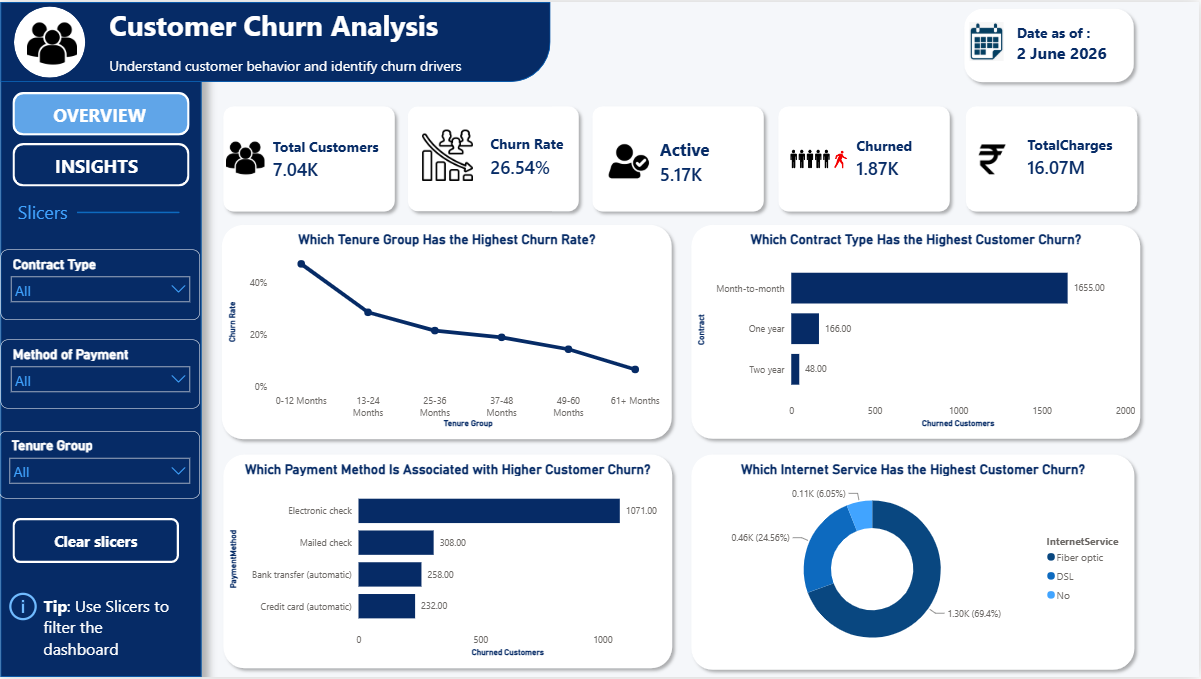

What the dashboard file says about the page in this screenshot:
{"tool":"powerbi","page":{"name":"dashboard","canvas":[1600,900],"ordinal":0},"visuals":[{"type":"group","id":"g1","title":"side bar","box":[0,0,736,900],"z":0,"group":"g23"},{"type":"group","id":"g2","title":"Group 3","box":[0,0,736,900],"z":0,"group":"g1"},{"type":"group","id":"g3","title":"Group 1","box":[2,0,734,900],"z":0,"group":"g2"},{"type":"shape","box":[2,0,268,900],"z":0,"group":"g3"},{"type":"group","id":"g4","title":"date","box":[1278,0,244,116],"z":0,"group":"g17"},{"type":"shape","box":[1278,0,244,116],"z":0,"group":"g4"},{"type":"group","id":"g5","title":"Group 6","box":[290,130,246.7,158.3],"z":0,"group":"g18"},{"type":"shape","box":[290,130,246.7,158.3],"z":0,"group":"g5"},{"type":"group","id":"g6","title":"Group 8","box":[536,130,260,158],"z":0,"group":"g20"},{"type":"shape","box":[536,130,246,158],"z":0,"group":"g6"},{"type":"group","id":"g7","title":"Group 7","box":[781.7,130,246.7,158.3],"z":0,"group":"g19"},{"type":"shape","box":[781.7,130,246.7,158.3],"z":0,"group":"g7"},{"type":"group","id":"g8","title":"Group 5","box":[1030,130,246.7,158.3],"z":0,"group":"g22"},{"type":"shape","box":[1030,130,246.7,158.3],"z":0,"group":"g8"},{"type":"group","id":"g9","title":"Group 5","box":[1280,130,246.7,158.3],"z":0,"group":"g21"},{"type":"shape","box":[1280,130,246.7,158.3],"z":0,"group":"g9"},{"type":"textbox","box":[20,258,220,46],"z":0,"group":"g15"},{"type":"group","id":"g10","title":"tenure grp","box":[288,288,618,304],"z":0},{"type":"shape","box":[288,288,618,304],"z":0,"group":"g10"},{"type":"shape","box":[914,288,616.7,303.4],"z":0,"group":"g12"},{"type":"shape","box":[290,594,616.7,303.4],"z":0,"group":"g16"},{"type":"shape","box":[914,594,608.8,305.4],"z":0,"group":"g14"},{"type":"shape","box":[2.5,0,733.3,106.7],"z":1000,"group":"g3"},{"type":"textbox","box":[142.1,0,485.6,65.9],"z":1000,"group":"g2"},{"type":"shape","box":[20.3,5,95,95],"z":1000,"group":"g1"},{"type":"image","box":[1293.3,20,45,65],"z":1000,"group":"g17"},{"type":"textbox","box":[1352,22,156,64],"z":1000,"group":"g4"},{"type":"group","id":"g11","title":"Group 4","box":[16,120,238,58],"z":1000,"group":"g23"},{"type":"cardVisual","fields":{"Data":["Sum(cleaned_telco_churn.TotalCharges)"]},"box":[1341.7,141.7,180,128.3],"z":1000,"group":"g9"},{"type":"cardVisual","fields":{"Data":["cleaned_telco_churn.Churn Rate"]},"box":[626,146.7,170,118.3],"z":1000,"group":"g6"},{"type":"cardVisual","fields":{"Data":["cleaned_telco_churn.Churned Customers"]},"box":[1113.3,146.7,155,123.3],"z":1000,"group":"g8"},{"type":"cardVisual","fields":{"Data":["cleaned_telco_churn.Total Customers"]},"box":[336.7,148.3,200,121.7],"z":1000,"group":"g5"},{"type":"cardVisual","fields":{"Data":["cleaned_telco_churn.Active Customers"]},"box":[852.3,153.3,158.3,116.7],"z":1000,"group":"g7"},{"type":"image","box":[1051.7,161.7,81.7,96.7],"z":1000,"group":"g22"},{"type":"image","box":[548.3,170,100,68.3],"z":1000,"group":"g20"},{"type":"image","box":[290,181.7,76.7,51.7],"z":1000,"group":"g18"},{"type":"image","box":[1280,181.7,85,56.7],"z":1000,"group":"g21"},{"type":"image","box":[811.7,183.3,55,56.7],"z":1000,"group":"g19"},{"type":"shape","box":[103.3,274.4,136.7,13.1],"z":1000,"group":"g15"},{"type":"group","id":"g12","title":"contract type","box":[914,288,618,304],"z":1000},{"type":"lineChart","title":"Which Tenure Group Has the Highest Churn Rate?","fields":{"Category":["cleaned_telco_churn.Tenure Group"],"Y":["cleaned_telco_churn.Churn Rate"]},"box":[299.7,306.8,594.6,266.4],"z":1000,"group":"g10"},{"type":"clusteredBarChart","title":"Which Contract Type Has the Highest Customer Churn?","fields":{"Category":["cleaned_telco_churn.Contract"],"Y":["cleaned_telco_churn.Churned Customers"]},"box":[925.7,306.8,593.3,265.8],"z":1000,"group":"g12"},{"type":"clusteredBarChart","title":"Which Payment Method Is Associated with Higher Customer Churn?","fields":{"Y":["cleaned_telco_churn.Churned Customers"],"Category":["cleaned_telco_churn.PaymentMethod"]},"box":[301.7,612.8,593.3,265.8],"z":1000,"group":"g16"},{"type":"donutChart","title":"Which Internet Service Has the Highest Customer Churn?","fields":{"Y":["cleaned_telco_churn.Churned Customers"],"Category":["cleaned_telco_churn.InternetService"]},"box":[925.5,612.9,585.8,267.6],"z":1000,"group":"g14"},{"type":"image","box":[27,21.7,85,66.7],"z":2000,"group":"g1"},{"type":"textbox","box":[142.1,65.9,485.6,40.1],"z":2000,"group":"g2"},{"type":"group","id":"g13","title":"Group 4","box":[18,188,236,58],"z":2000,"group":"g23"},{"type":"group","id":"g14","title":"internet service","box":[914,594,608,306],"z":2000},{"type":"group","id":"g15","title":"Group 2","box":[20,258,220,48],"z":3000,"group":"g2"},{"type":"group","id":"g16","title":"payment method","box":[290,594,618,304],"z":3000},{"type":"slicer","fields":{"Values":["cleaned_telco_churn.Contract"]},"box":[2,330,266,94],"z":4000,"group":"g2"},{"type":"group","id":"g17","title":"date","box":[1278,0,244,116],"z":5000},{"type":"slicer","fields":{"Values":["cleaned_telco_churn.PaymentMethod"]},"box":[2,450,266,92],"z":5000,"group":"g2"},{"type":"group","id":"g18","title":"total_cust_card","box":[290,130,246.7,158.3],"z":6000},{"type":"slicer","fields":{"Values":["cleaned_telco_churn.Tenure Group"]},"box":[0,572,268,90],"z":6000,"group":"g2"},{"type":"group","id":"g19","title":"active card","box":[781.7,130,246.7,158.3],"z":7000},{"type":"actionButton","box":[18,688,222,60],"z":7000,"group":"g2"},{"type":"group","id":"g20","title":"churn rate","box":[536,130,260,158],"z":8000},{"type":"textbox","box":[54,784,186,96],"z":8000,"group":"g2"},{"type":"group","id":"g21","title":"total charge","box":[1280,130,246.7,158.3],"z":9000},{"type":"actionButton","box":[8,782,50,48],"z":9000,"group":"g2"},{"type":"group","id":"g22","title":"churned","box":[1030,130,246.7,158.3],"z":10000},{"type":"shape","box":[18,120,236,58],"z":11000,"group":"g11"},{"type":"shape","box":[18,188,236,58],"z":11000,"group":"g13"},{"type":"textbox","box":[16,128,236,46],"z":12000,"group":"g11"},{"type":"textbox","box":[52,196,156,42],"z":12000,"group":"g13"},{"type":"group","id":"g23","title":"Group 9","box":[0,0,736,900],"z":12003}]}

Visuals, with their boxes in screenshot pixels (x1, y1, x2, y2), scaled from the page's 1600x900 canvas onto the 1201x679 screenshot:
"side bar" group: select_region(0, 0, 552, 678)
"Group 3" group: select_region(0, 0, 552, 678)
"Group 1" group: select_region(2, 0, 552, 678)
shape: select_region(2, 0, 203, 678)
"date" group: select_region(959, 0, 1142, 88)
shape: select_region(959, 0, 1142, 88)
"Group 6" group: select_region(218, 98, 403, 218)
shape: select_region(218, 98, 403, 218)
"Group 8" group: select_region(402, 98, 597, 217)
shape: select_region(402, 98, 587, 217)
"Group 7" group: select_region(587, 98, 772, 218)
shape: select_region(587, 98, 772, 218)
"Group 5" group: select_region(773, 98, 958, 218)
shape: select_region(773, 98, 958, 218)
"Group 5" group: select_region(961, 98, 1146, 218)
shape: select_region(961, 98, 1146, 218)
textbox: select_region(15, 195, 180, 229)
"tenure grp" group: select_region(216, 217, 680, 447)
shape: select_region(216, 217, 680, 447)
shape: select_region(686, 217, 1149, 446)
shape: select_region(218, 448, 681, 677)
shape: select_region(686, 448, 1143, 678)
shape: select_region(2, 0, 552, 80)
textbox: select_region(107, 0, 471, 50)
shape: select_region(15, 4, 87, 75)
image: select_region(971, 15, 1005, 64)
textbox: select_region(1015, 17, 1132, 65)
"Group 4" group: select_region(12, 91, 191, 134)
cardVisual - Sum(cleaned_telco_churn.TotalCharges): select_region(1007, 107, 1142, 204)
cardVisual - cleaned_telco_churn.Churn Rate: select_region(470, 111, 597, 200)
cardVisual - cleaned_telco_churn.Churned Customers: select_region(836, 111, 952, 204)
cardVisual - cleaned_telco_churn.Total Customers: select_region(253, 112, 403, 204)
cardVisual - cleaned_telco_churn.Active Customers: select_region(640, 116, 759, 204)
image: select_region(789, 122, 851, 195)
image: select_region(412, 128, 487, 180)
image: select_region(218, 137, 275, 176)
image: select_region(961, 137, 1025, 180)
image: select_region(609, 138, 651, 181)
shape: select_region(78, 207, 180, 217)
"contract type" group: select_region(686, 217, 1150, 447)
"Which Tenure Group Has the Highest Churn Rate?" lineChart: select_region(225, 231, 671, 432)
"Which Contract Type Has the Highest Customer Churn?" clusteredBarChart: select_region(695, 231, 1140, 432)
"Which Payment Method Is Associated with Higher Customer Churn?" clusteredBarChart: select_region(226, 462, 672, 663)
"Which Internet Service Has the Highest Customer Churn?" donutChart: select_region(695, 462, 1134, 664)
image: select_region(20, 16, 84, 67)
textbox: select_region(107, 50, 471, 80)
"Group 4" group: select_region(14, 142, 191, 186)
"internet service" group: select_region(686, 448, 1142, 678)
"Group 2" group: select_region(15, 195, 180, 231)
"payment method" group: select_region(218, 448, 682, 677)
slicer - cleaned_telco_churn.Contract: select_region(2, 249, 201, 320)
"date" group: select_region(959, 0, 1142, 88)
slicer - cleaned_telco_churn.PaymentMethod: select_region(2, 340, 201, 409)
"total_cust_card" group: select_region(218, 98, 403, 218)
slicer - cleaned_telco_churn.Tenure Group: select_region(0, 432, 201, 499)
"active card" group: select_region(587, 98, 772, 218)
actionButton: select_region(14, 519, 180, 564)
"churn rate" group: select_region(402, 98, 597, 217)
textbox: select_region(41, 591, 180, 664)
"total charge" group: select_region(961, 98, 1146, 218)
actionButton: select_region(6, 590, 44, 626)
"churned" group: select_region(773, 98, 958, 218)
shape: select_region(14, 91, 191, 134)
shape: select_region(14, 142, 191, 186)
textbox: select_region(12, 97, 189, 131)
textbox: select_region(39, 148, 156, 180)
"Group 9" group: select_region(0, 0, 552, 678)
